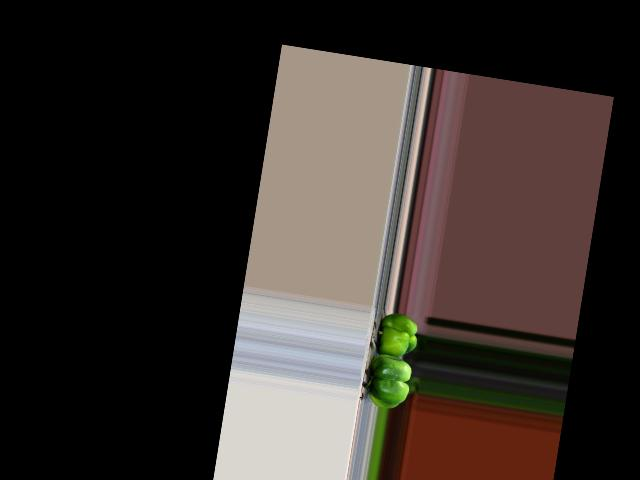bell_pepper: (372, 309, 422, 360)
